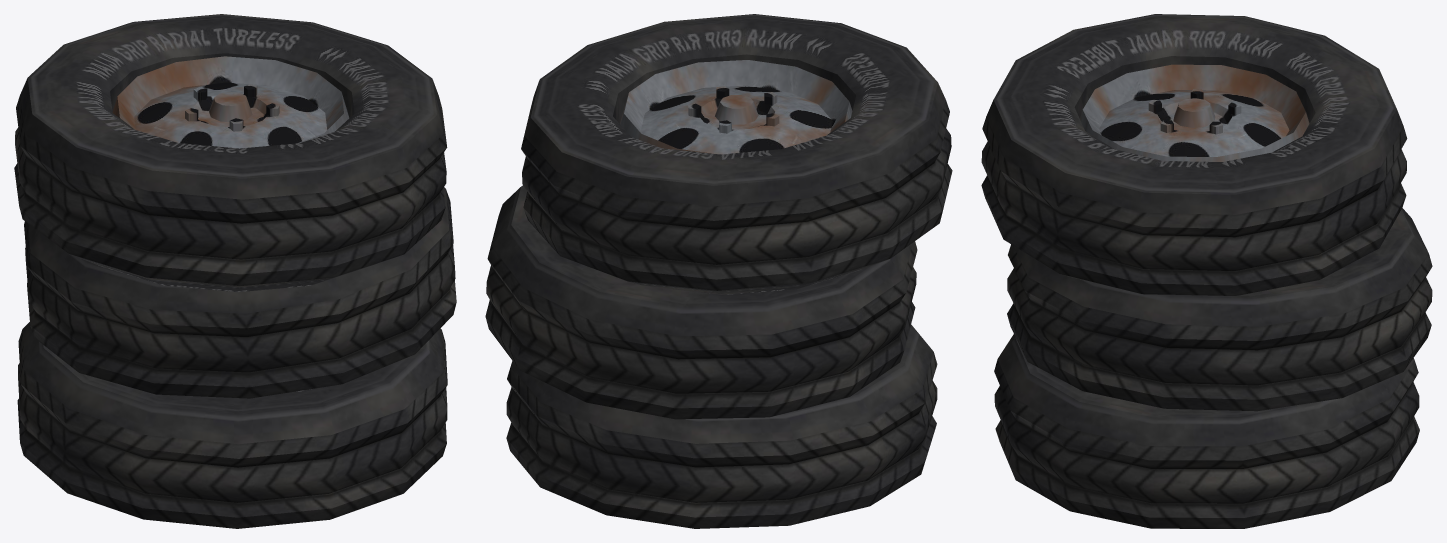
File: prop_soft_tyres.glb
The picture shows the model from 3 angles, left to right: view 1: azimuth 30°, elevation 25°; view 2: azimuth 150°, elevation 25°; view 3: azimuth 270°, elevation 25°; orthographic projection. The views are drawn at different scales.
Visible parts, largest first — view 1: prop_soft_tyres_body; view 2: prop_soft_tyres_body; view 3: prop_soft_tyres_body.
Boxes of the visible parts, <box> form: prop_soft_tyres_body: <box>14,14,456,528</box>; prop_soft_tyres_body: <box>485,14,952,528</box>; prop_soft_tyres_body: <box>981,14,1432,528</box>.
Bounding box in the file's own units: 0.7011 × 0.6441 × 0.7109.
1 material, 1 textured.
